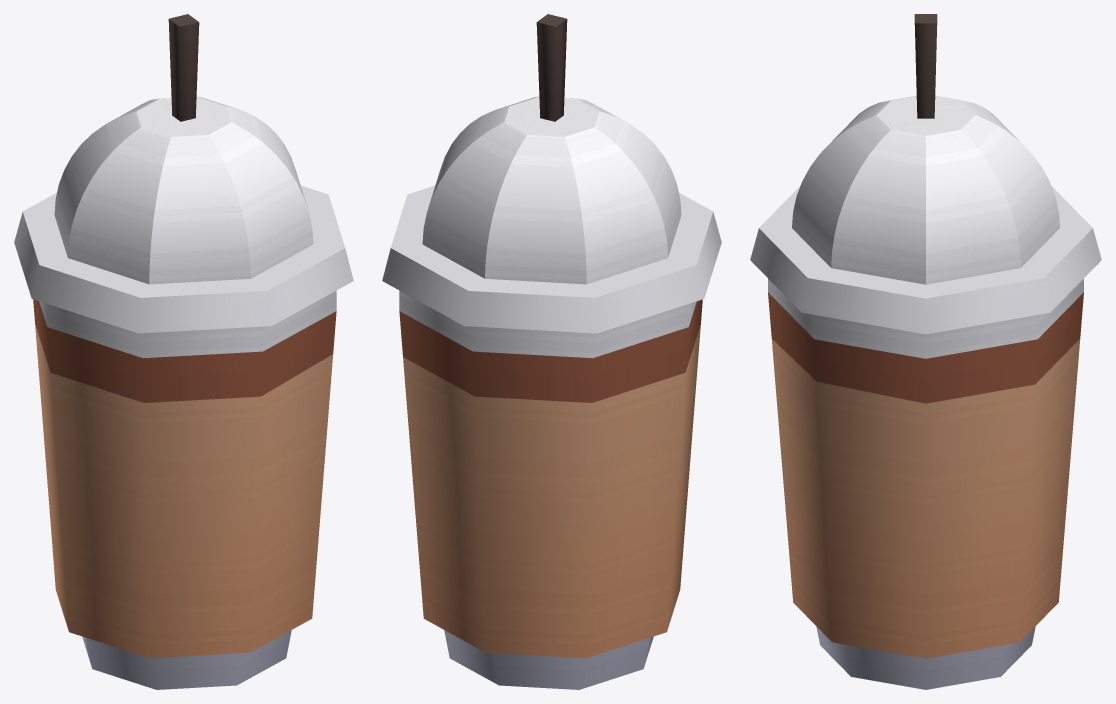
File: frappe.glb
3 views of the same model, side by side, from view 1: azimuth 30°, elevation 25°; view 2: azimuth 150°, elevation 25°; view 3: azimuth 270°, elevation 25° (orthographic).
Visible parts, largest first — view 1: frappe; view 2: frappe; view 3: frappe.
Part boxes in pixels (bbox=[...]): frappe: bbox=[14, 14, 353, 689]; frappe: bbox=[382, 14, 721, 689]; frappe: bbox=[750, 14, 1101, 689].
Size of the model in its own units: 0.2541 by 0.4993 by 0.2541.
Materials: 1 (1 with a texture image).
